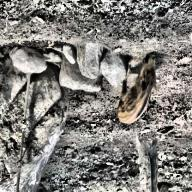boar: (109, 51, 167, 130)
